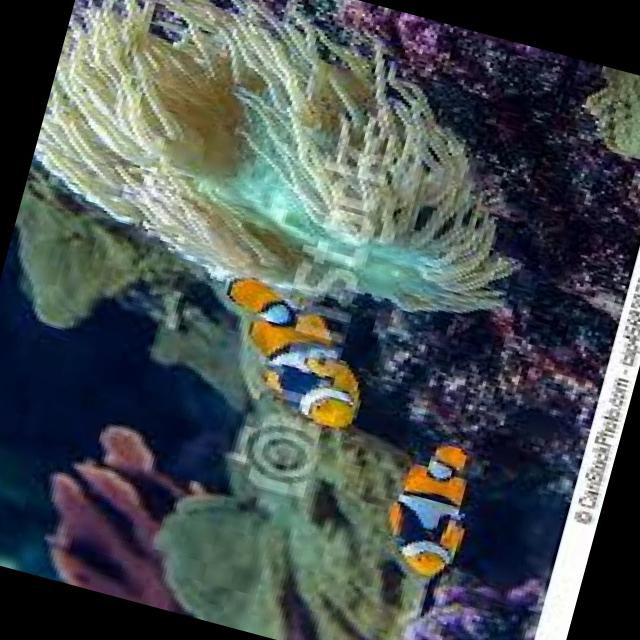ClownFish: (178, 247, 406, 442), (362, 428, 498, 596)
